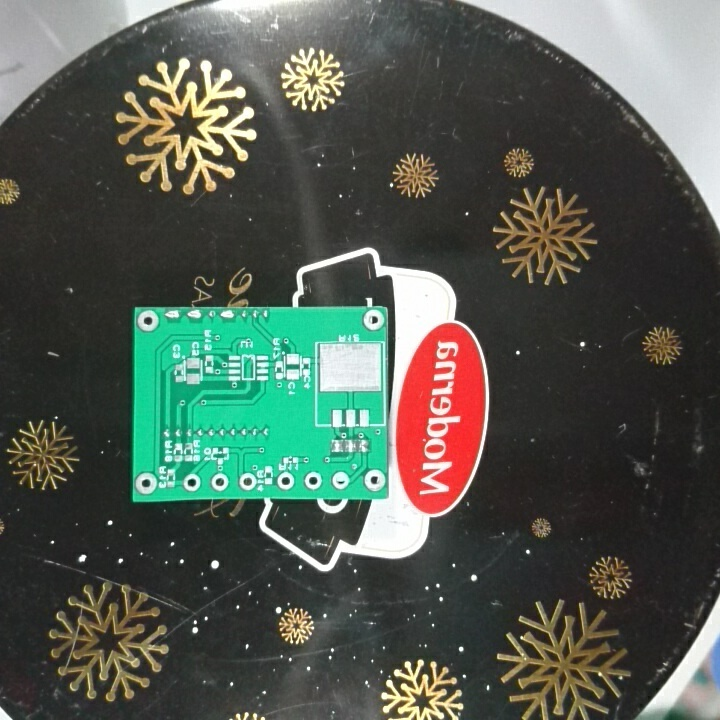F: (134, 470, 161, 497), (135, 307, 159, 334), (361, 307, 386, 332), (362, 467, 386, 492), (302, 469, 325, 493), (182, 472, 205, 494), (237, 470, 259, 493), (330, 469, 351, 491), (210, 472, 231, 493), (275, 472, 295, 491)
P: (162, 307, 182, 323), (184, 309, 204, 323), (217, 309, 236, 323)
